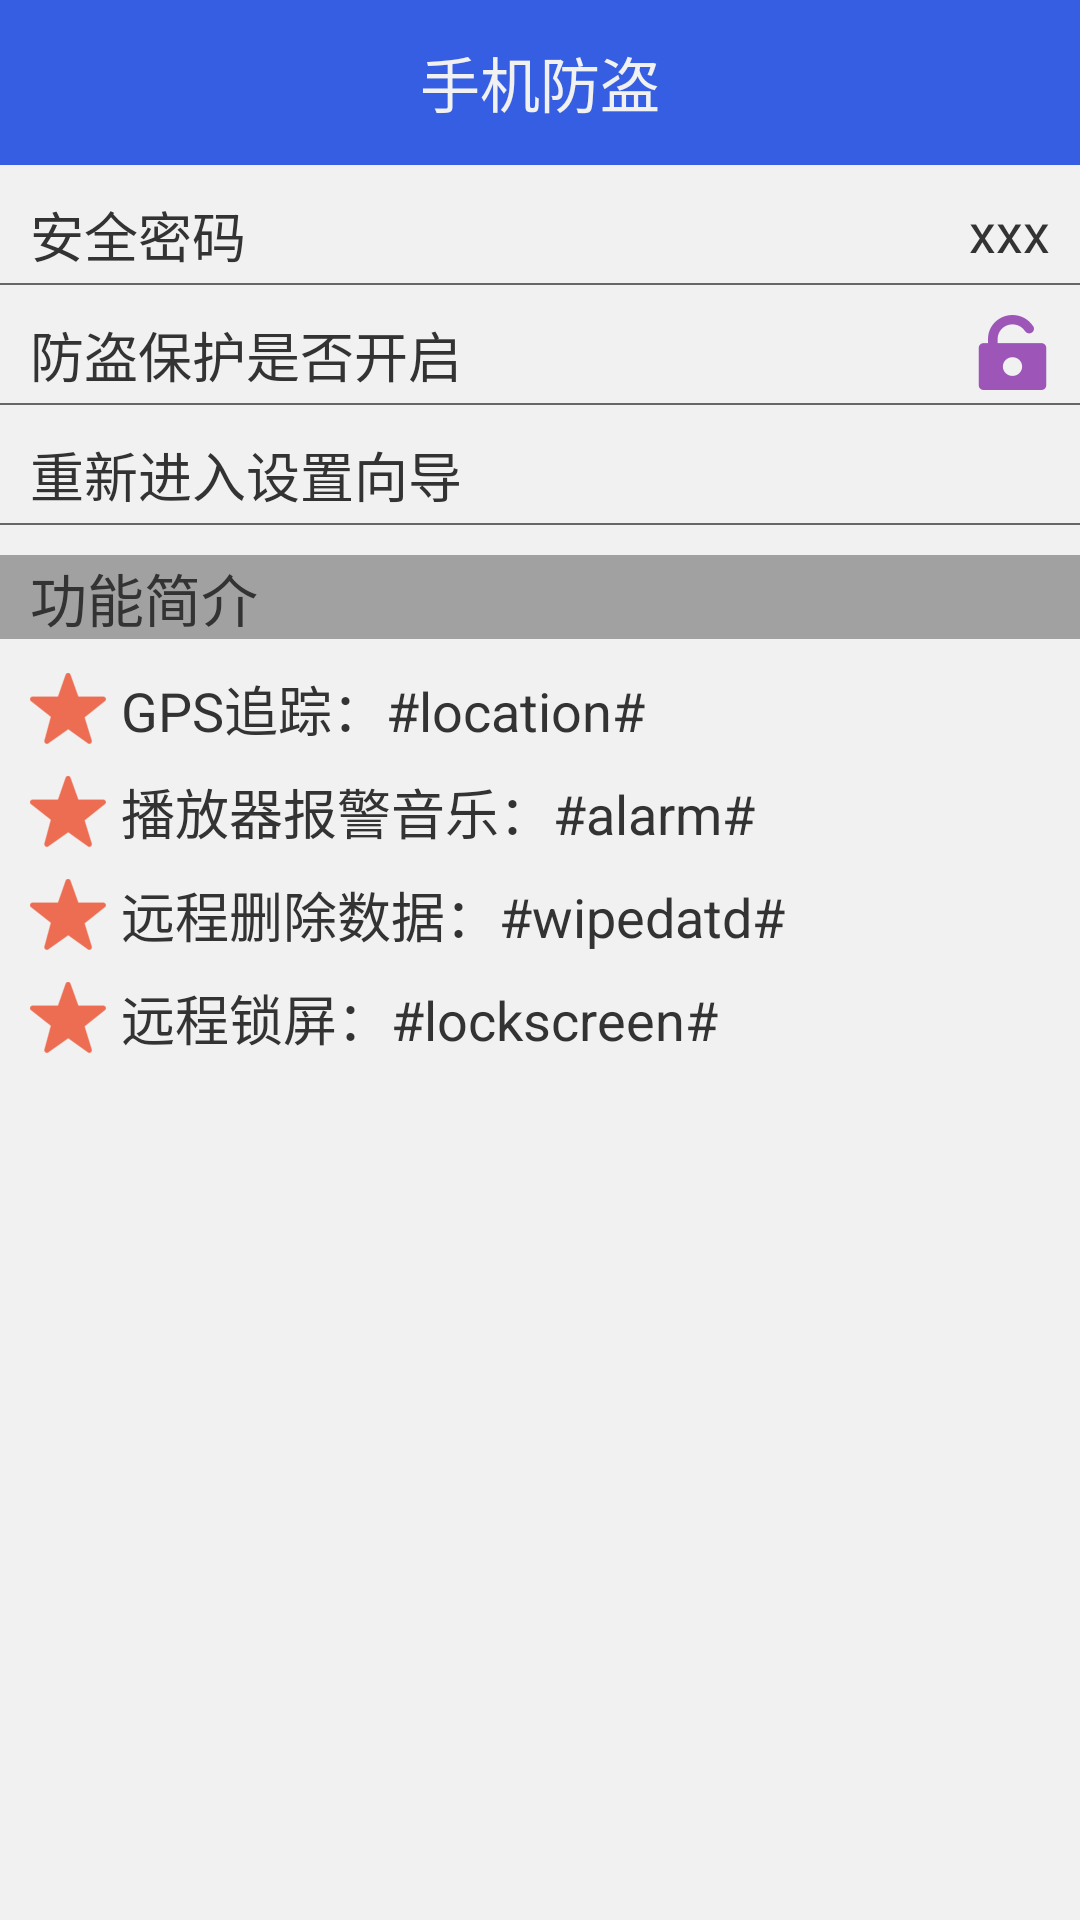

Where icons sit on this 1080 x 1920 app screen, as (x1, y1, x2, y2):
unlock: (978, 315, 1047, 390)
